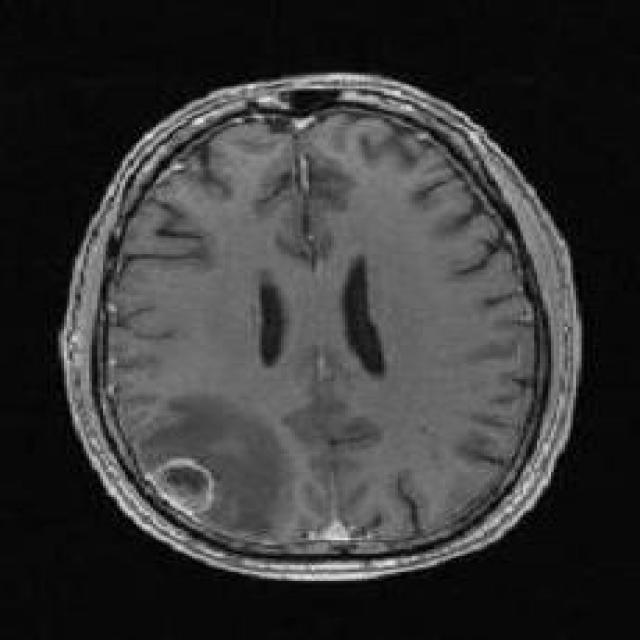notumor: (56, 75, 584, 586)
